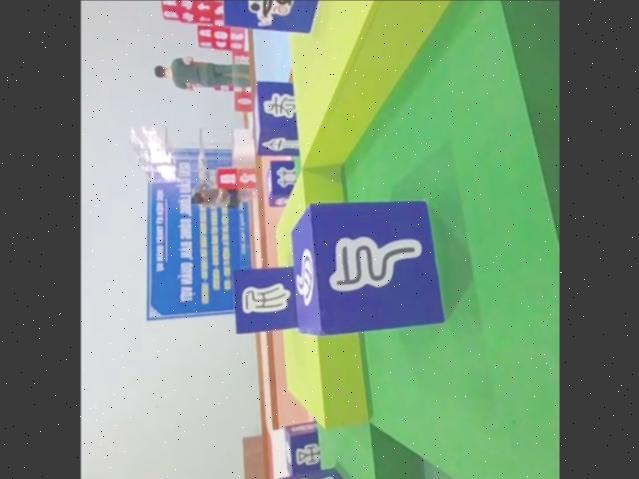R1 Blue: (216, 0, 330, 31)
R2 Fake Blue: (291, 201, 446, 337), (232, 266, 301, 333), (253, 81, 300, 156)
R2 Real Blue: (284, 423, 321, 478), (266, 161, 297, 208)
